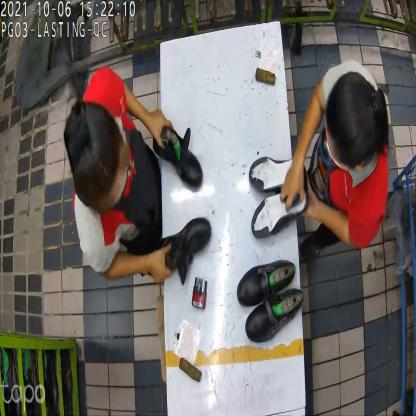shoes: (150, 125, 210, 286), (235, 255, 300, 339), (248, 150, 297, 239)
stamp: (279, 180, 305, 213), (191, 278, 209, 312)
